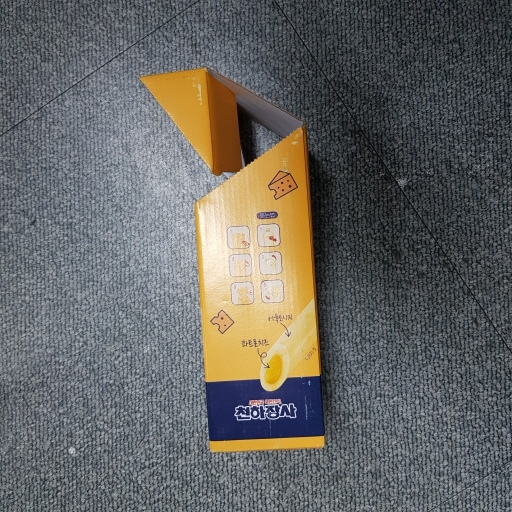Paper_0: (140, 55, 345, 469)
